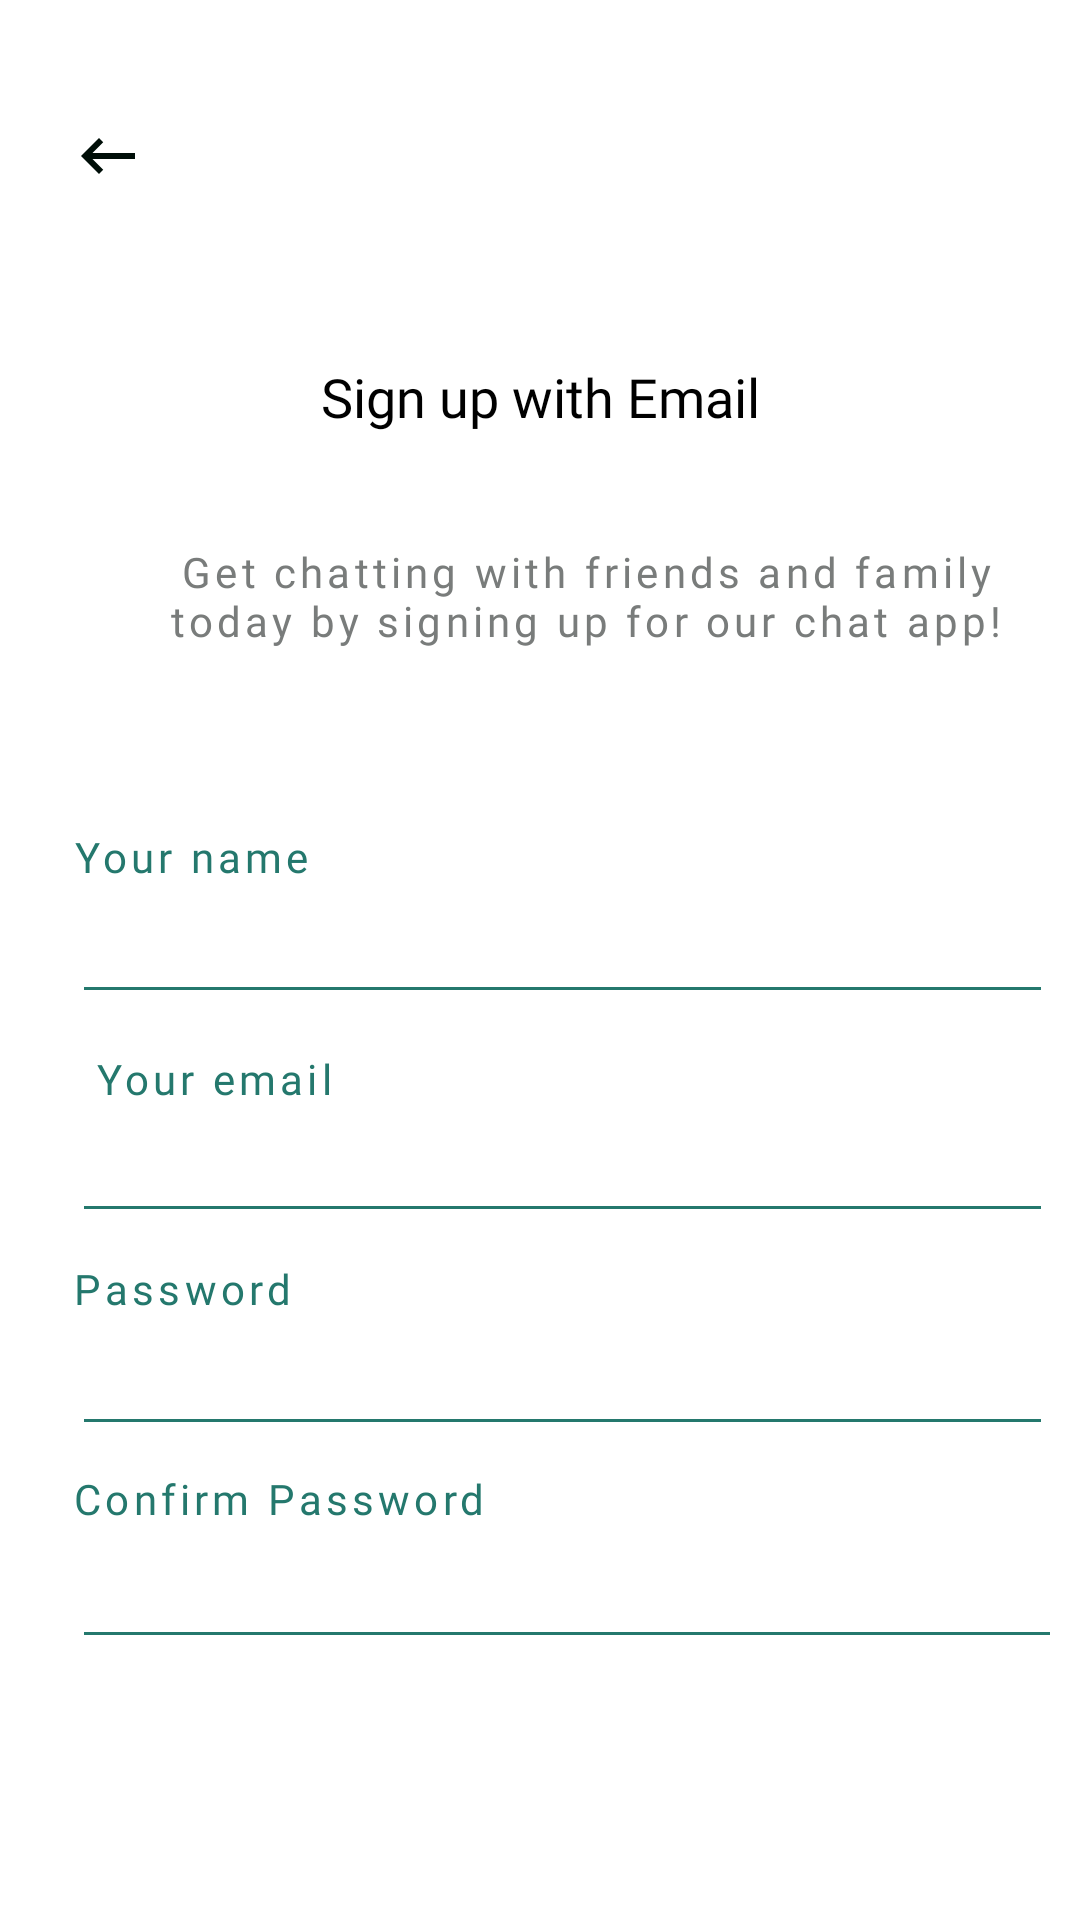

Where to tap for icons on this 1080 × 1920 app screen, as (x=x, y=y):
signup backarrow: (x=108, y=156)
